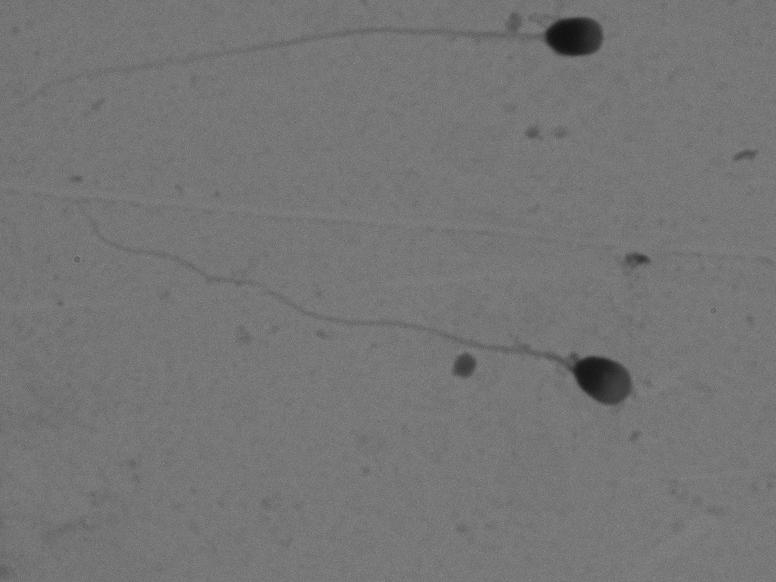Abnormal: (55, 171, 661, 424)
Normal: (12, 6, 641, 111)
